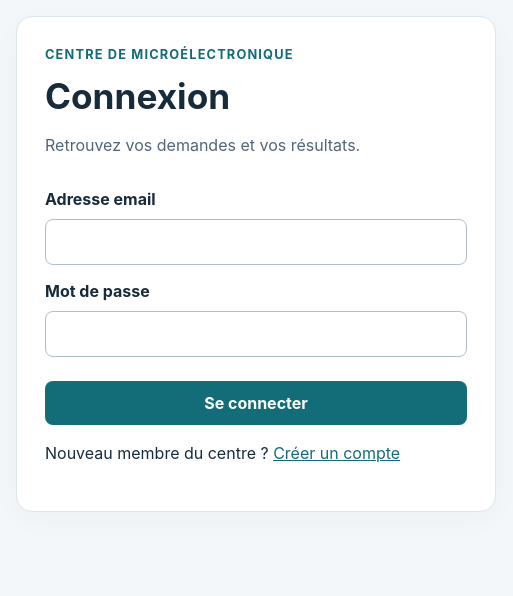
Scenario: LoginPage › shows an authentication error without creating a session
Type "julien@example.test" into the field labelled "Adresse email" at point(256, 242), box [45,219,467,265]
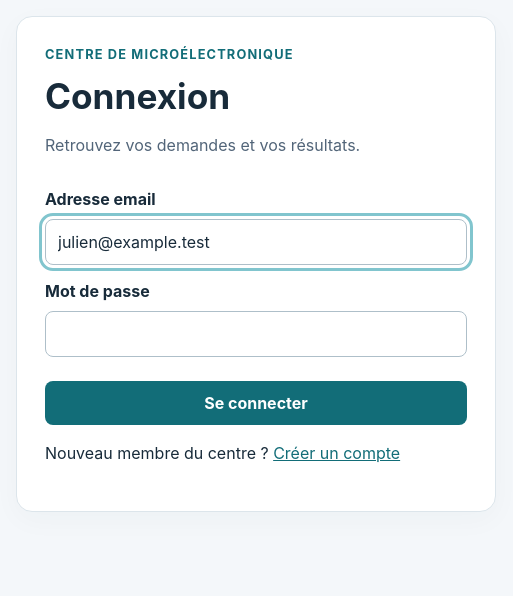
Type "wrong-password" into the password field labelled "Mot de passe" at point(256, 334), box [45,311,467,357]
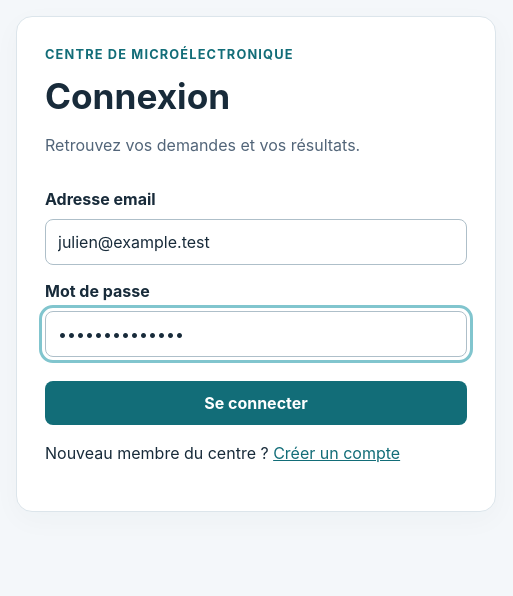
Click the button "Se connecter" at point(256, 403), box [45,381,467,425]
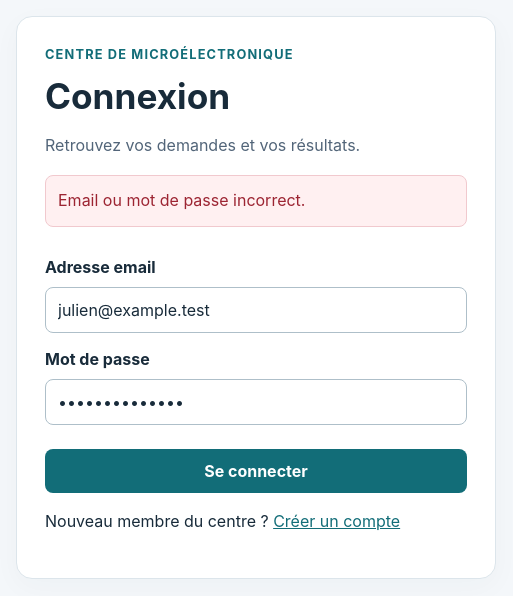
expect the message reads "Email ou mot de passe incorrect.": met, box [58,190,306,210]
